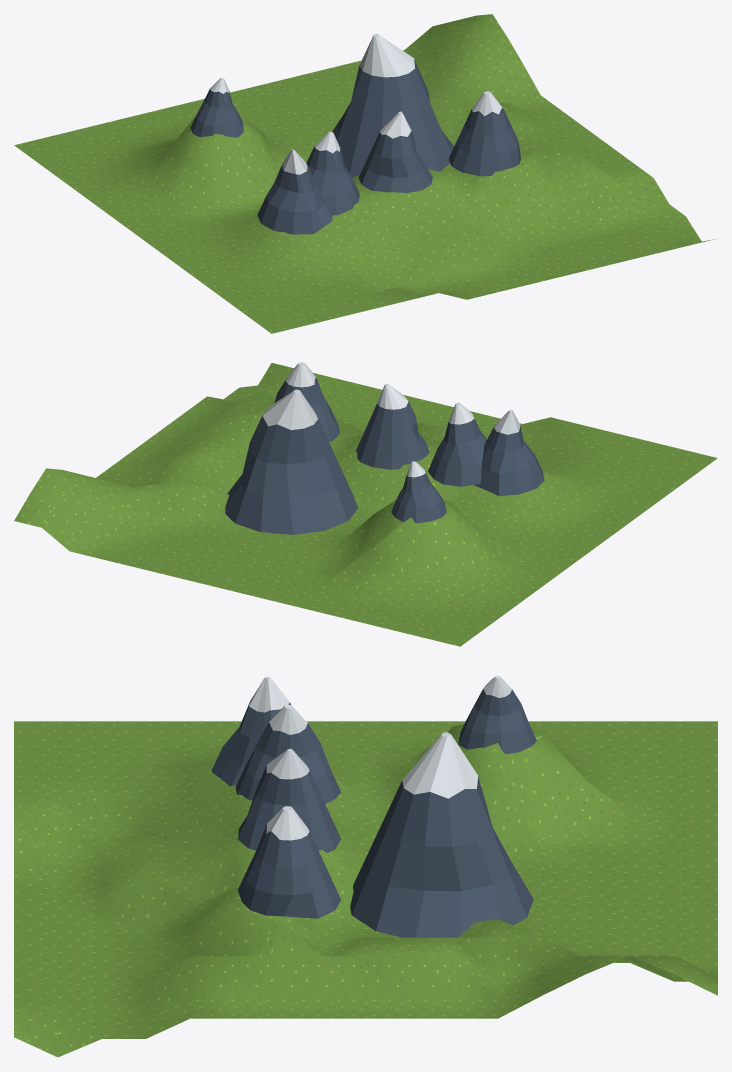
Rendered from background mountains.fbx.
3 views of the same model, one above another, from view 1: azimuth 30°, elevation 25°; view 2: azimuth 150°, elevation 25°; view 3: azimuth 270°, elevation 25° (orthographic). The views are drawn at different scales.
Parts seen in each view (by area): view 1: Plane.011, Cone.008, Cone.006, Cone.004, Cone.002, Cone.003, Cone.007; view 2: Plane.011, Cone.008, Cone.002, Cone.004, Cone.003, Cone.007, Cone.006; view 3: Plane.011, Cone.008, Cone.006, Cone.002, Cone.003, Cone.007, Cone.004.
Boxes of the visible parts, x1,y1,x2,y2 form: Plane.011: (14,14,715,333); Cone.008: (332,33,453,177); Cone.006: (448,91,520,176); Cone.004: (257,149,332,234); Cone.002: (358,111,432,193); Cone.003: (306,131,359,215); Cone.007: (190,78,243,137); Plane.011: (14,363,717,646); Cone.008: (225,389,357,534); Cone.002: (356,383,429,469); Cone.004: (474,409,544,496); Cone.003: (428,403,486,486); Cone.007: (391,461,446,523); Cone.006: (274,362,340,441); Plane.011: (14,721,717,1057); Cone.008: (350,732,533,937); Cone.006: (238,806,340,918); Cone.002: (238,748,340,852); Cone.003: (235,704,341,803); Cone.007: (458,675,536,754); Cone.004: (211,677,290,786).
Size of the model in its own units: 186204 by 58572 by 186204.
